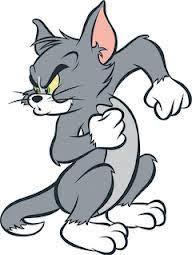tom: (1, 1, 192, 250)
